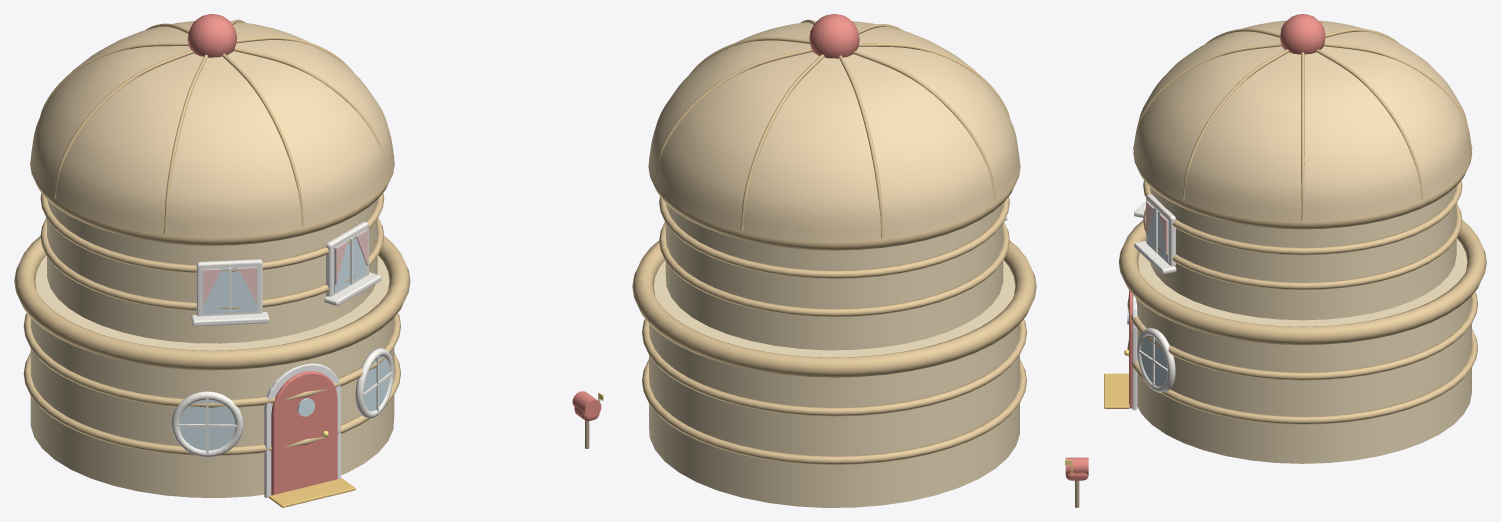
Rendered from building_dumpling_L06.glb.
3 renders of one model, left to right at view 1: azimuth 30°, elevation 25°; view 2: azimuth 150°, elevation 25°; view 3: azimuth 270°, elevation 25°, orthographic. The views are drawn at different scales.
Visible parts, largest first — view 1: Body, dumpling_L6; view 2: Body; view 3: Body, dumpling_L6.
Part boxes in pixels (x1,y1,x2,y2): Body: (14, 14, 410, 507); dumpling_L6: (572, 391, 603, 448); Body: (632, 14, 1036, 507); Body: (1104, 14, 1486, 463); dumpling_L6: (1065, 457, 1088, 507).
Bounding box in the file's own units: 18.2 × 16.26 × 16.45.
